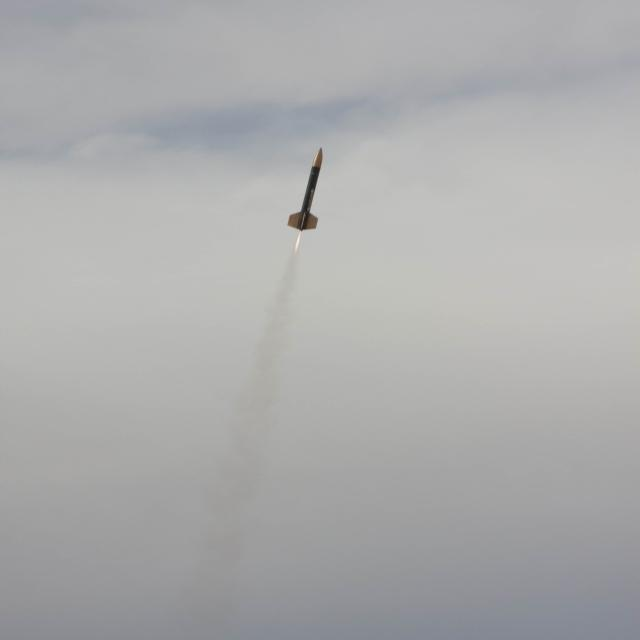Rocket: (286, 146, 324, 231)
